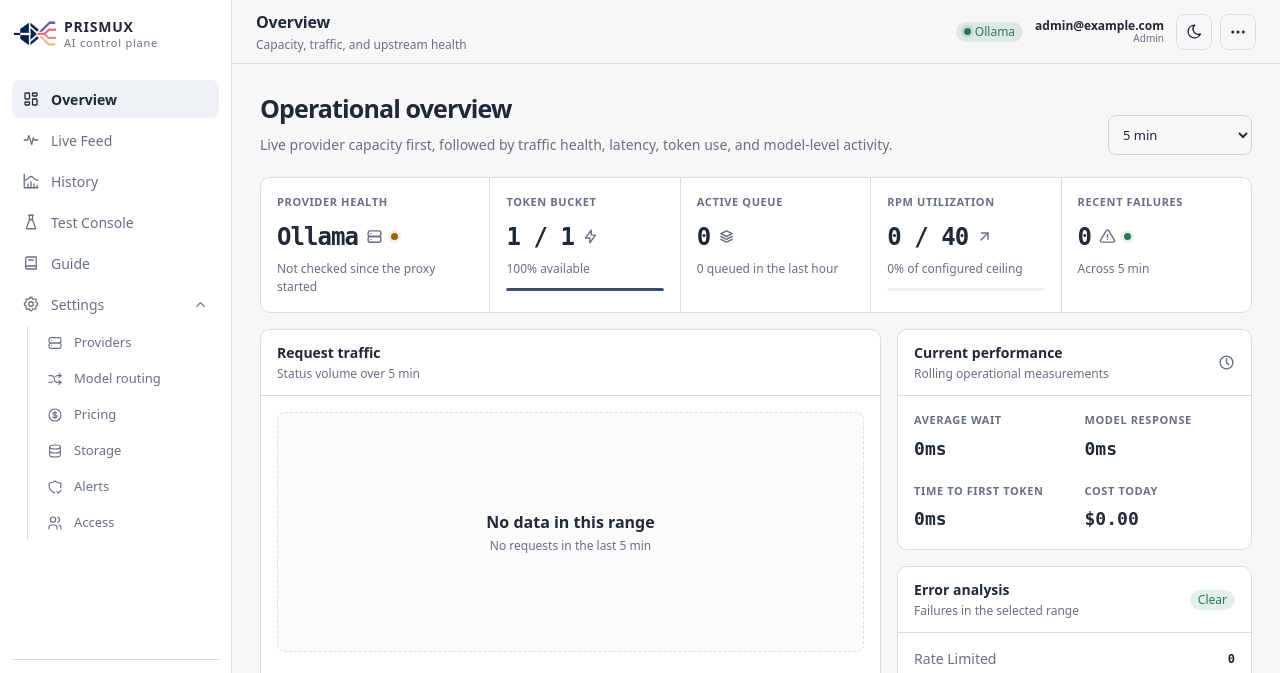
Test case: dashboard application › requires confirmation before destructive reset
This screenshot has width=1280, height=673.
Expected: the heading "Operational overview" is shown, [260,91,511,125]
Click the button named "Dashboard actions" at (1238, 32), box [1220,14,1256,50]
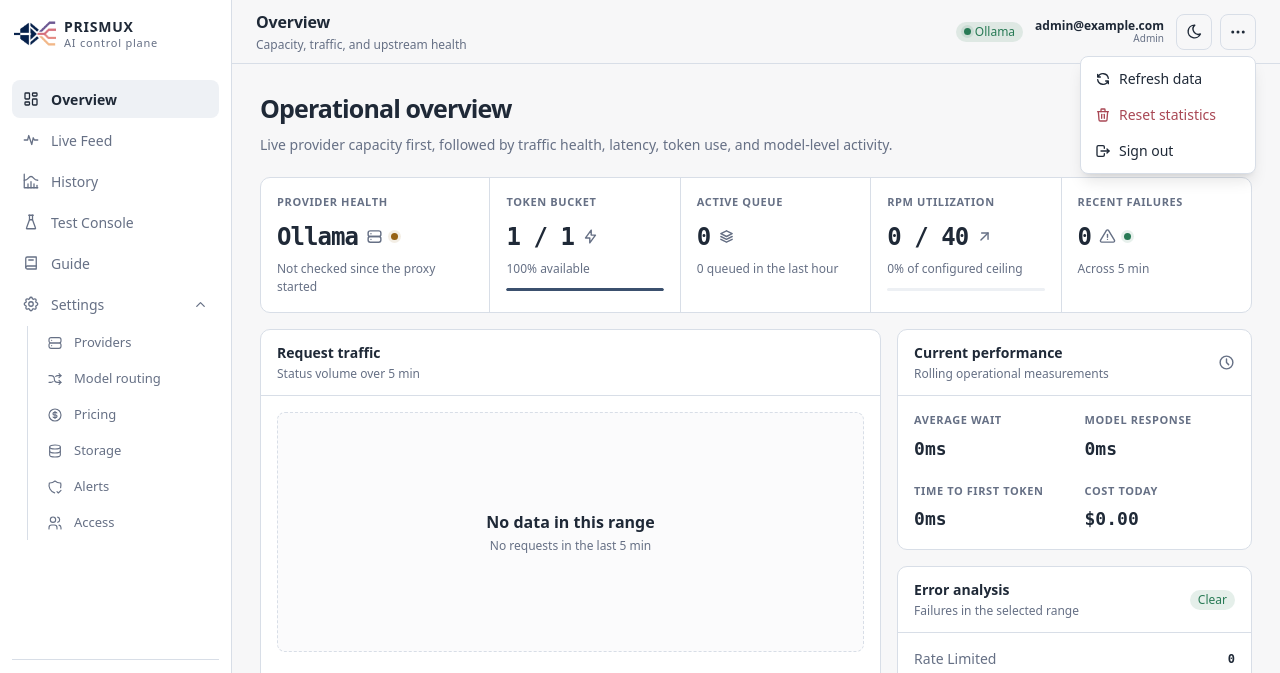
Click the menu item "Reset statistics" at (1156, 114), box [1095,105,1216,124]
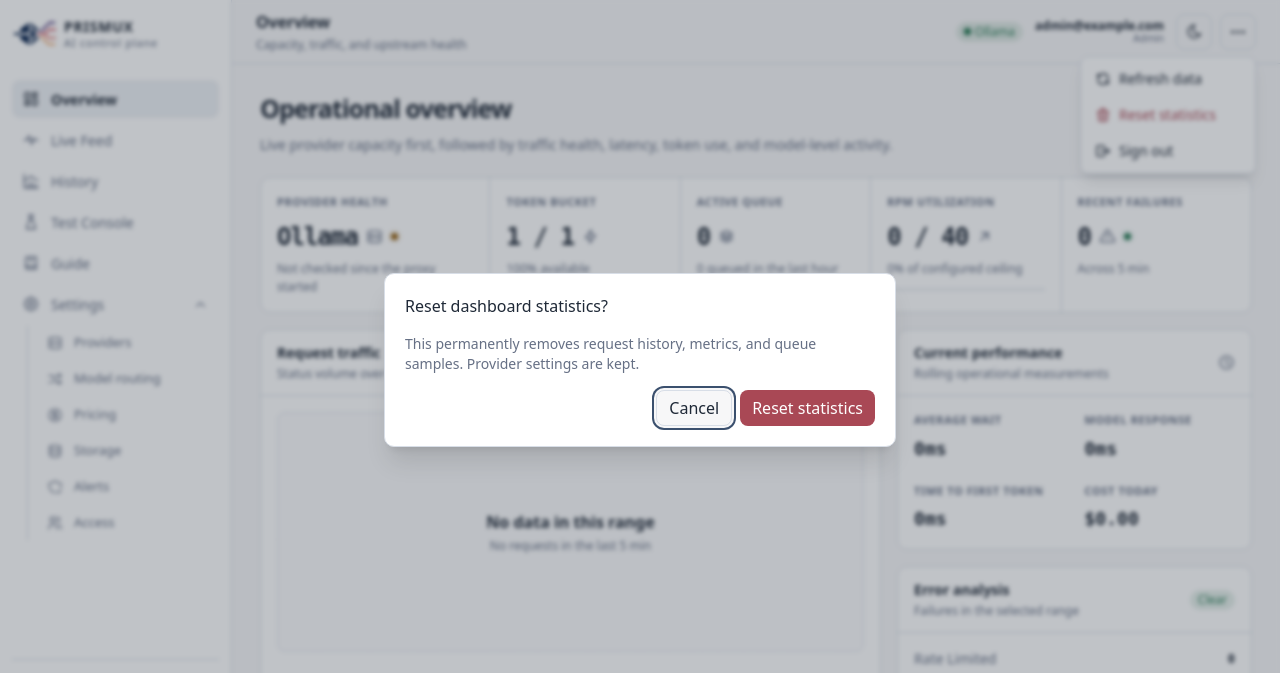
Now the heading "Reset dashboard statistics?" is shown, box [405,295,608,317]
